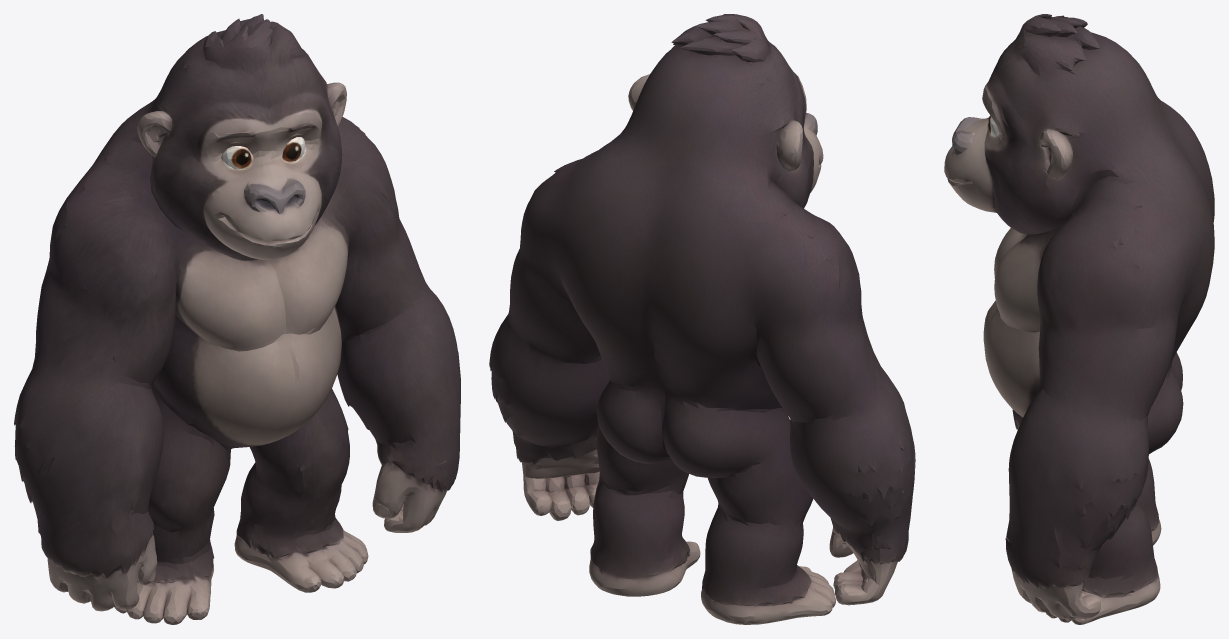
File: gorilla.glb
The picture shows the model from 3 angles, left to right: view 1: azimuth 30°, elevation 25°; view 2: azimuth 150°, elevation 25°; view 3: azimuth 270°, elevation 25°; orthographic projection. The views are drawn at different scales.
Parts seen in each view (by area): view 1: Mesh; view 2: Mesh; view 3: Mesh.
Boxes of the visible parts, left/top/right/bottom form: Mesh: left=14, top=14, right=460, bottom=624; Mesh: left=489, top=14, right=915, bottom=624; Mesh: left=944, top=14, right=1214, bottom=624.
Bounding box in the file's own units: 1.47 × 1.89 × 0.8426.
1 material, 1 textured.
